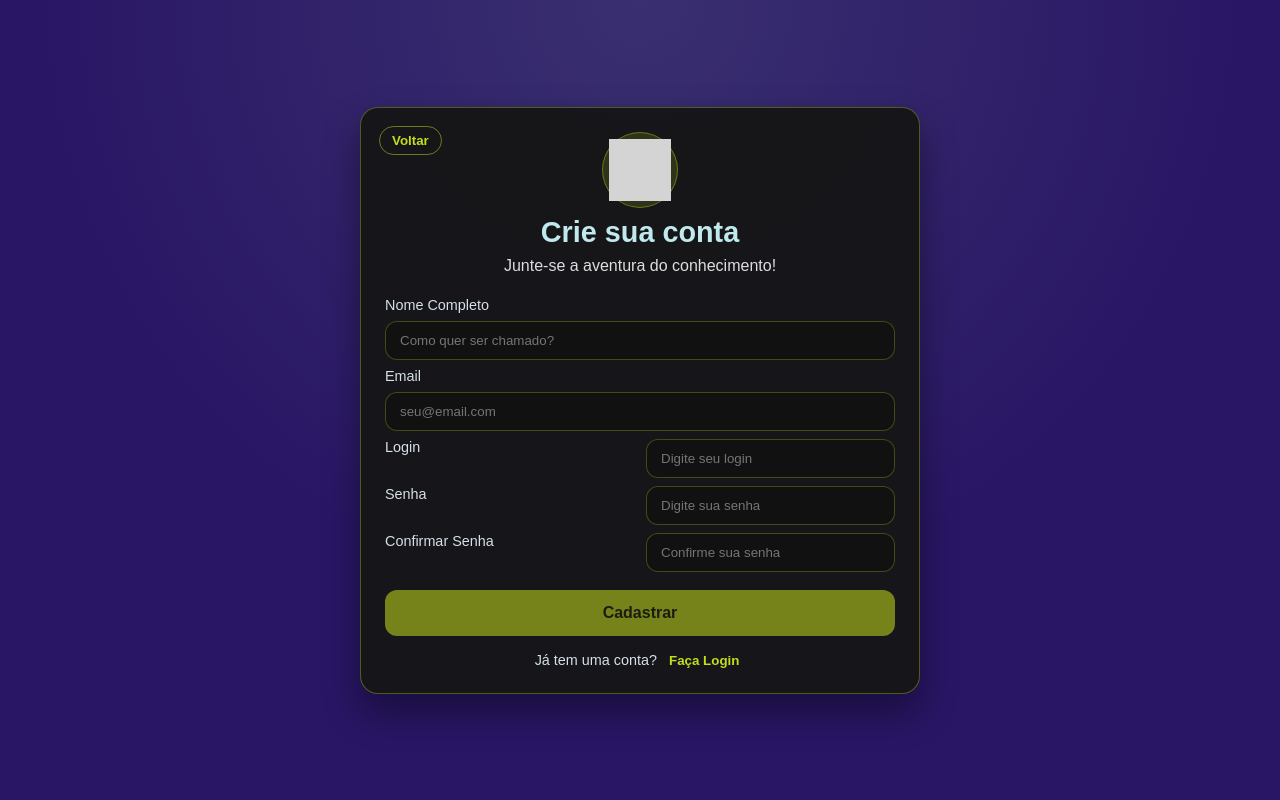
Test case: RegisterScreen › shows business registration errors inline
Type "Usuário Cadastro 1" into the field labelled "Nome Completo".
click(640, 340); type("Usuário Cadastro 1")  # box [385,320,895,360]
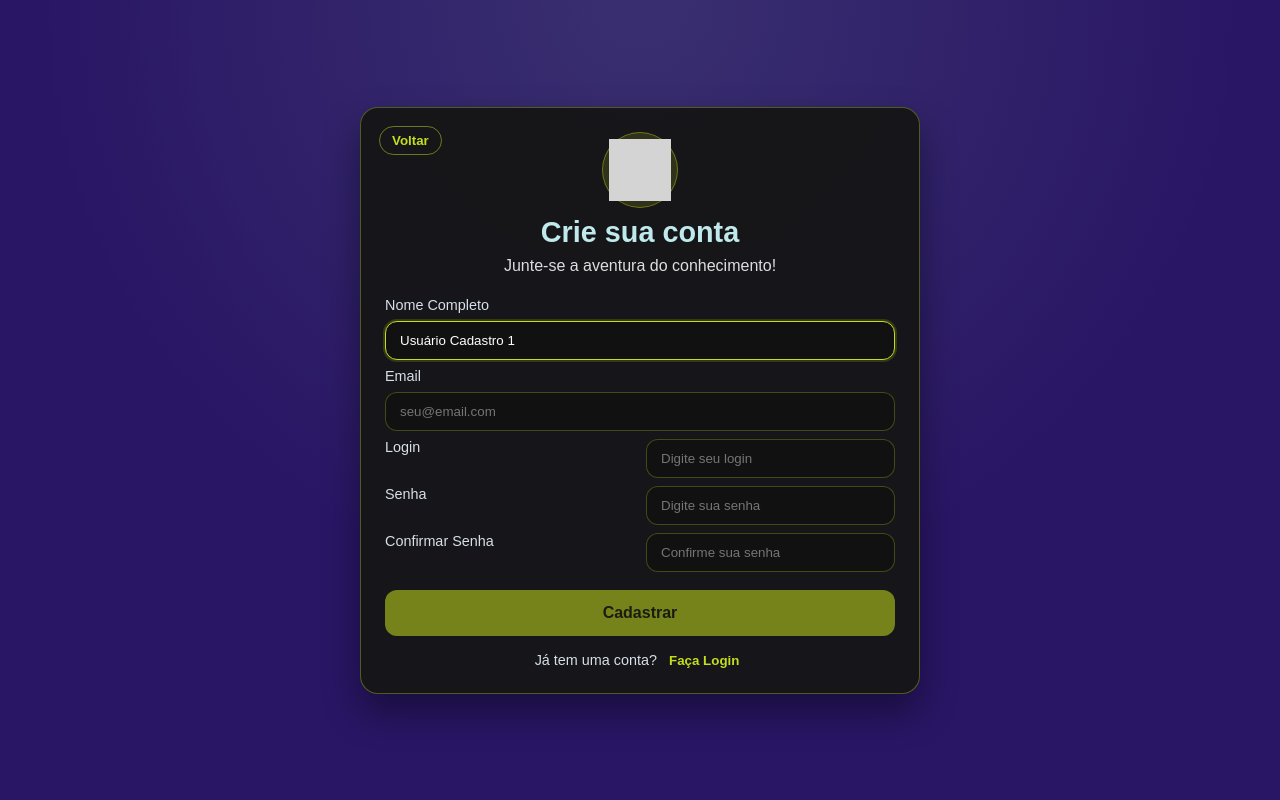
Type "user01@teste.com" into the field labelled "Email".
click(640, 411); type("user01@teste.com")  # box [385,392,895,430]
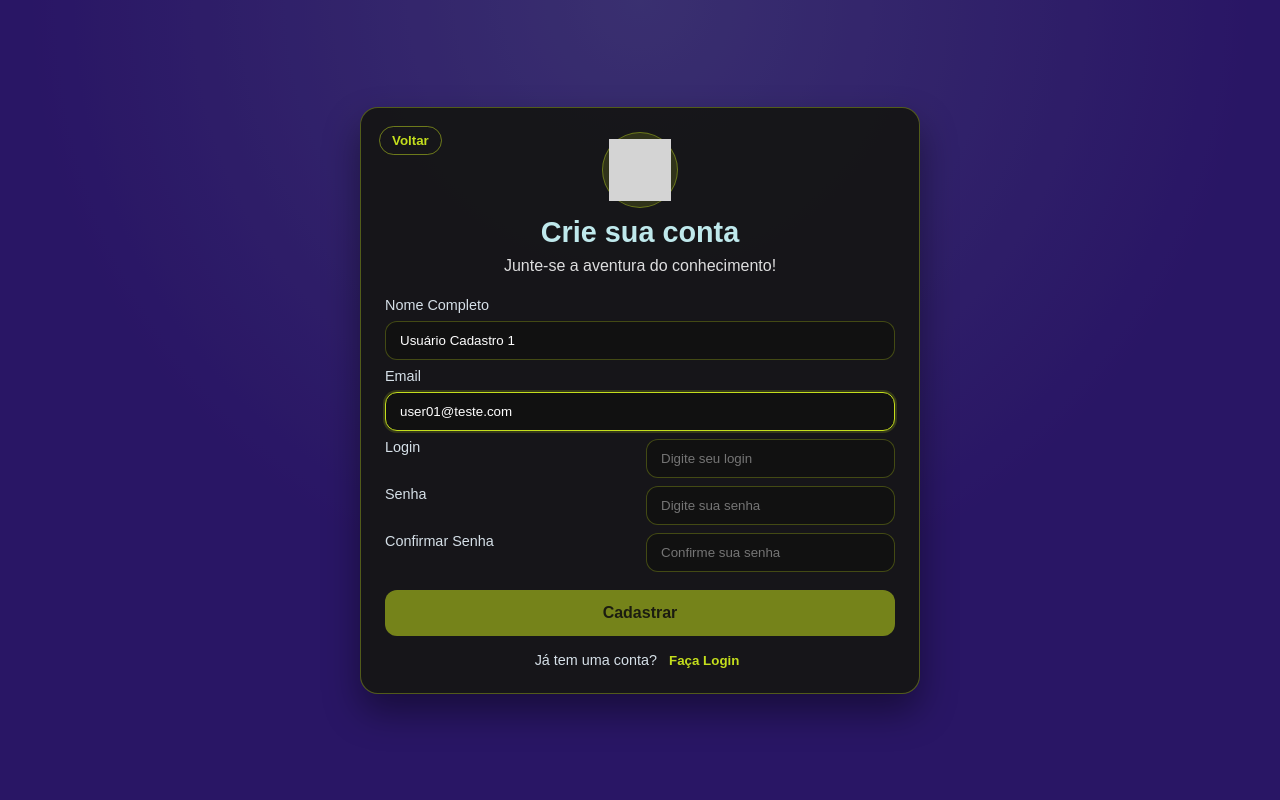
Type "user01" into the field labelled "Login".
click(770, 458); type("user01")  # box [646,438,895,478]
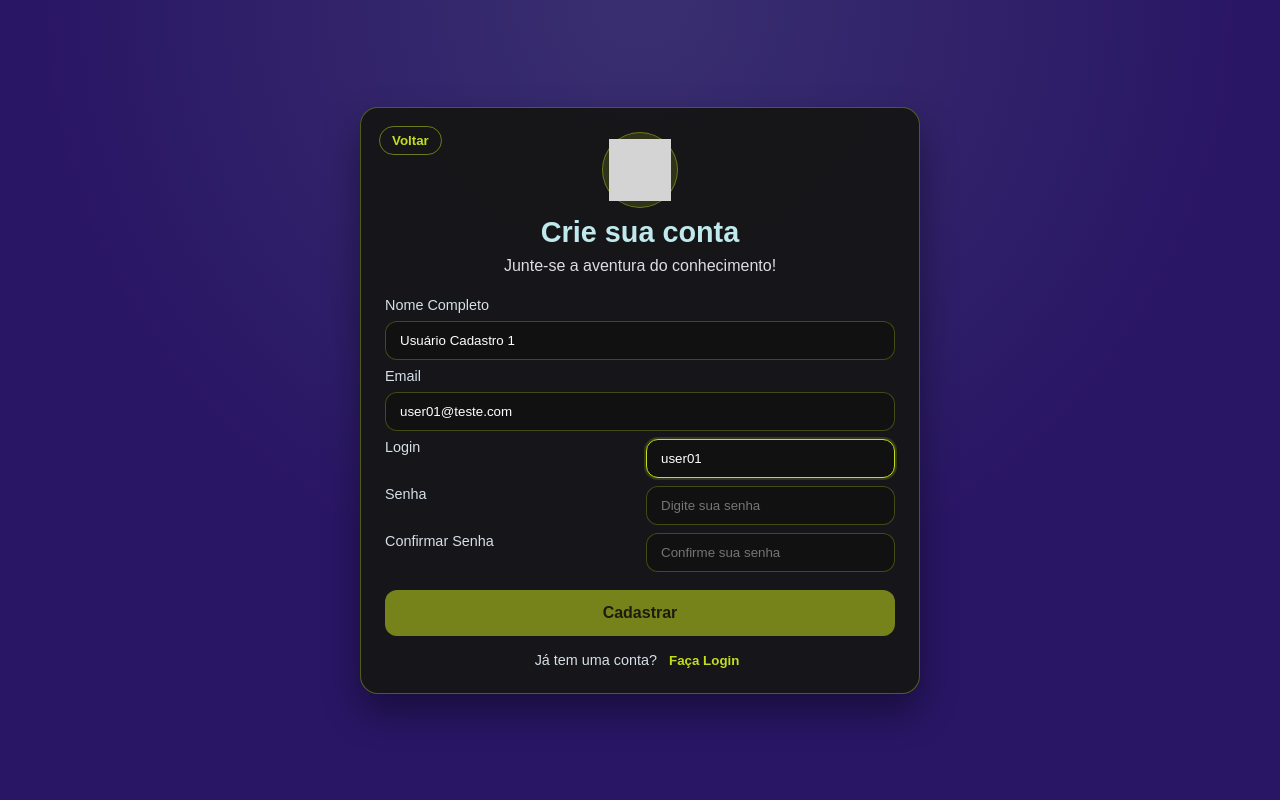
Type "1234" into the password field labelled "Senha".
click(770, 505); type("1234")  # box [646,486,895,524]
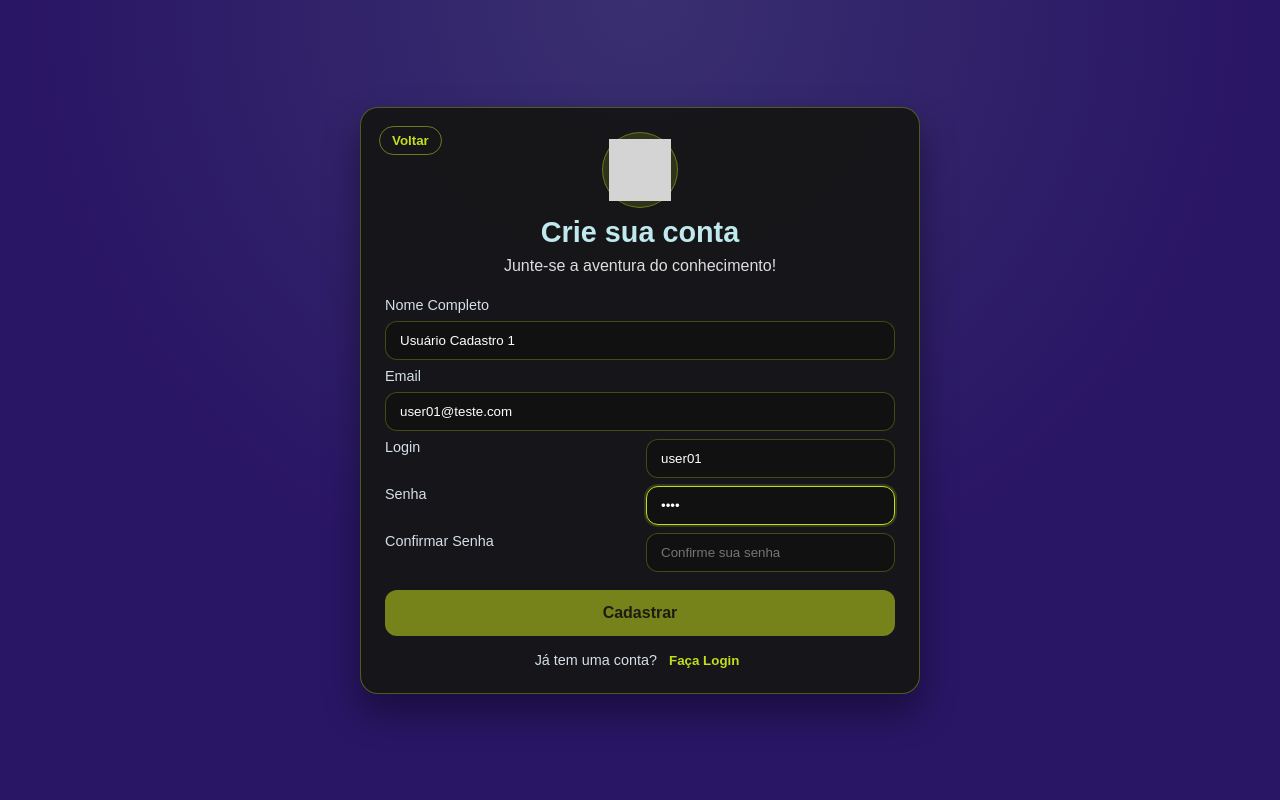
Type "1234" into the password field labelled "Confirmar Senha".
click(770, 552); type("1234")  # box [646,532,895,572]
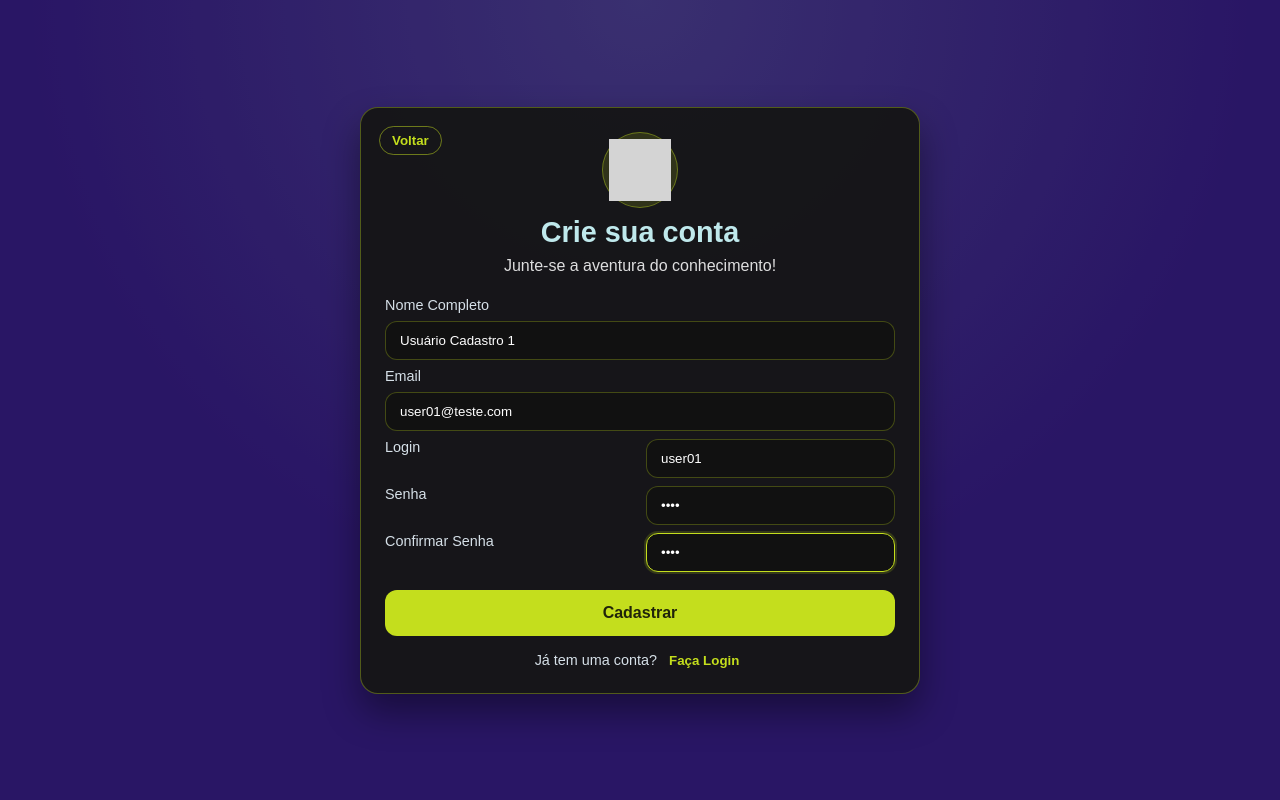
Click the button "Cadastrar".
click(640, 612)  # box [385,590,895,636]
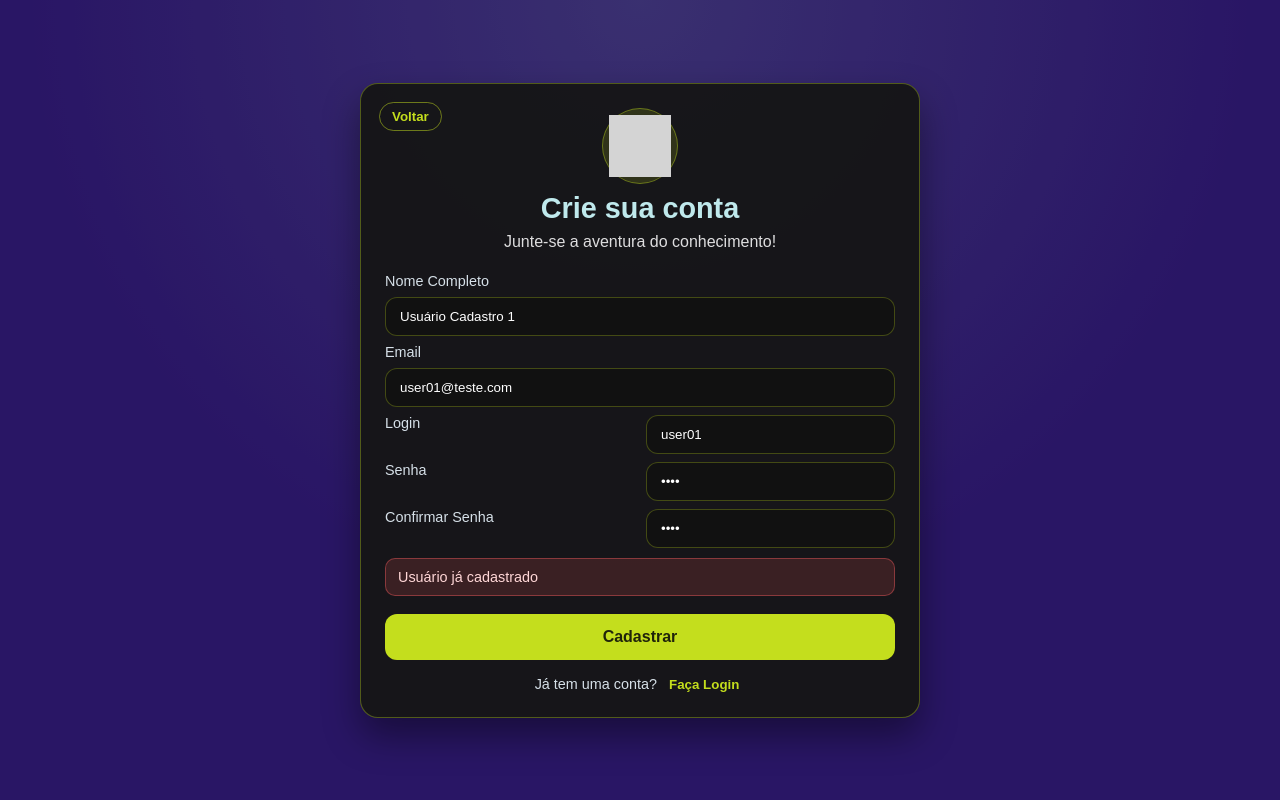
Check: the text "Usuário já cadastrado" is shown, box [385,558,895,596]
